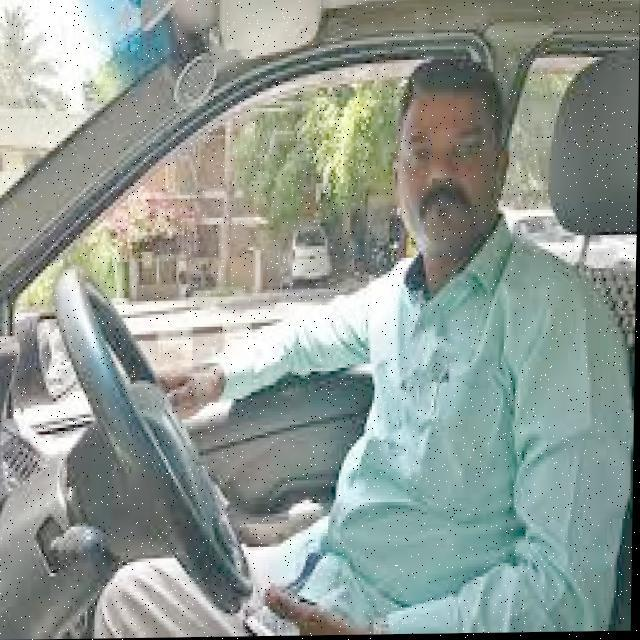noSeatbelt: (314, 204, 616, 636)
